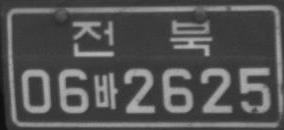0: (19, 68, 52, 114)
2: (123, 66, 156, 113), (200, 66, 233, 113)
5: (238, 67, 272, 114)
6: (57, 67, 90, 114), (162, 67, 194, 113)
바: (93, 71, 118, 109)
전북_D: (71, 17, 213, 57)
